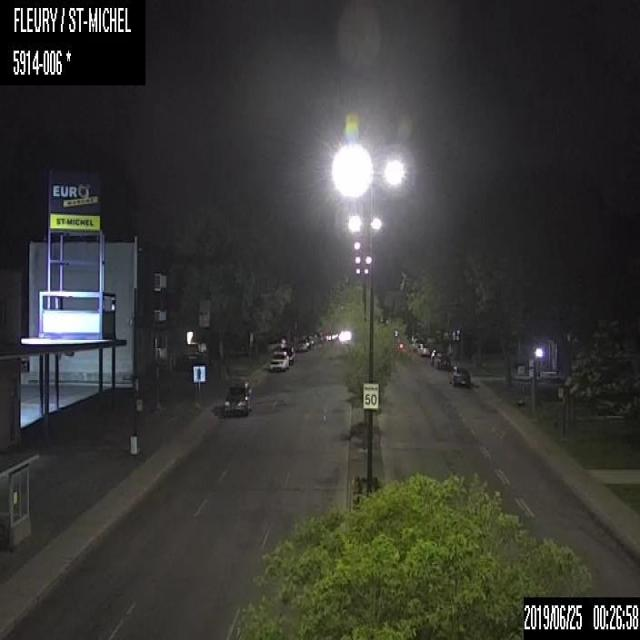vehicle: (223, 379, 252, 417), (266, 349, 288, 371), (450, 365, 469, 384), (433, 351, 451, 371), (266, 336, 286, 348), (282, 346, 295, 364), (416, 342, 430, 356)
